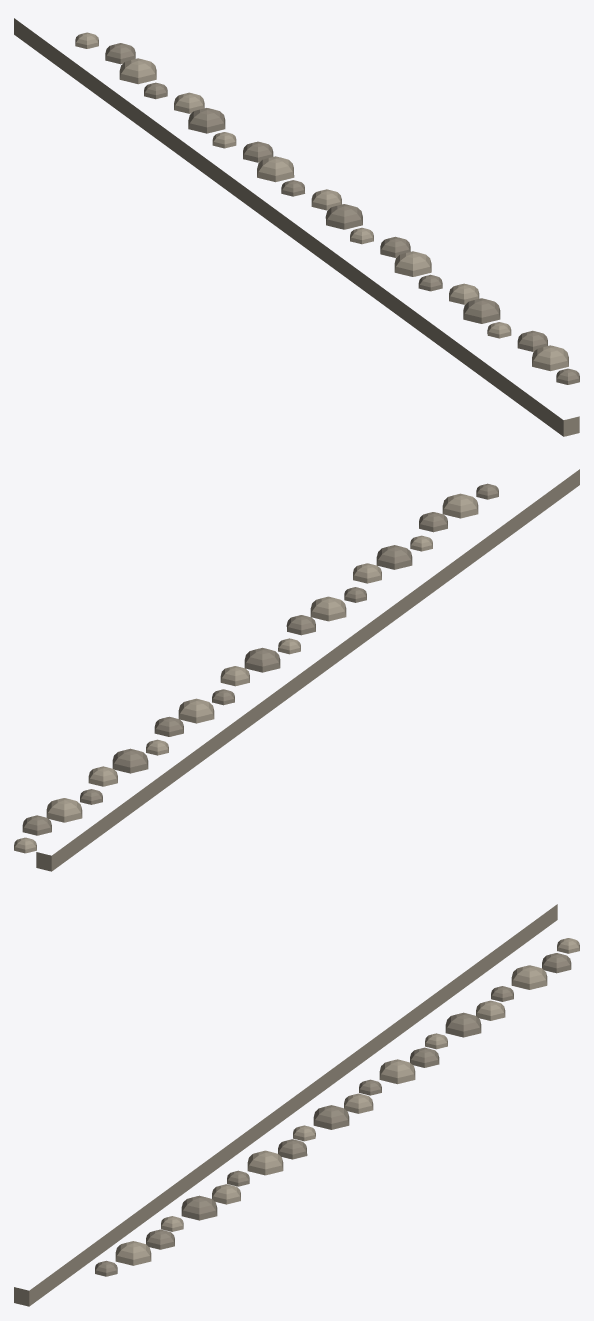
The model's file is arashi_boulders.glb.
3 renders of one model, top to bottom at view 1: azimuth 30°, elevation 25°; view 2: azimuth 150°, elevation 25°; view 3: azimuth 330°, elevation 25°, orthographic. The views are drawn at different scales.
Parts seen in each view (by area): view 1: arashi_boulders_lod0; view 2: arashi_boulders_lod0; view 3: arashi_boulders_lod0.
Part boxes in pixels (x1,y1,x2,y2): arashi_boulders_lod0: (14,18,579,436); arashi_boulders_lod0: (14,469,579,871); arashi_boulders_lod0: (14,904,579,1306).
Size of what is drawn, in the model's own units: 5.75 by 2.14 by 72.
